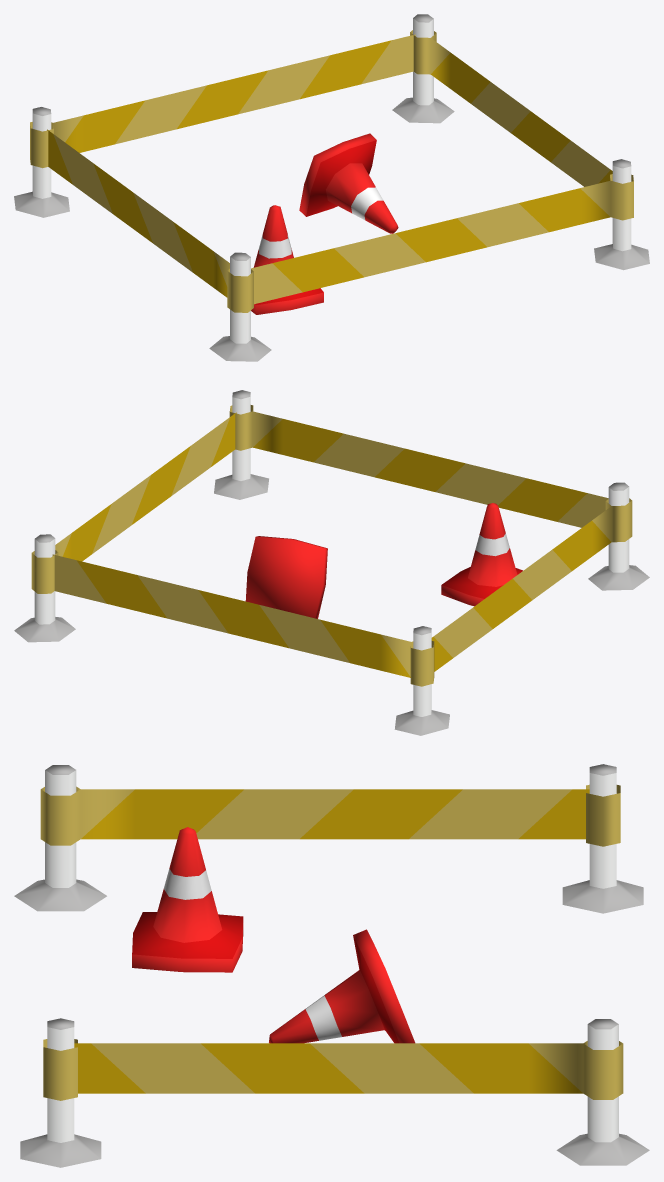
The model's file is zone2.fbx.
3 renders of one model, top to bottom at view 1: azimuth 30°, elevation 25°; view 2: azimuth 150°, elevation 25°; view 3: azimuth 270°, elevation 25°, orthographic. The views are drawn at different scales.
Visible parts, largest first — view 1: project_04.001; view 2: project_04.001; view 3: project_04.001.
Part boxes in pixels (x1=…): project_04.001: x1=14, y1=14, x2=649, y2=361; project_04.001: x1=14, y1=390, x2=649, y2=735; project_04.001: x1=14, y1=764, x2=649, y2=1167.
Size of the model in its own units: 57.89 by 12.96 by 62.31.
